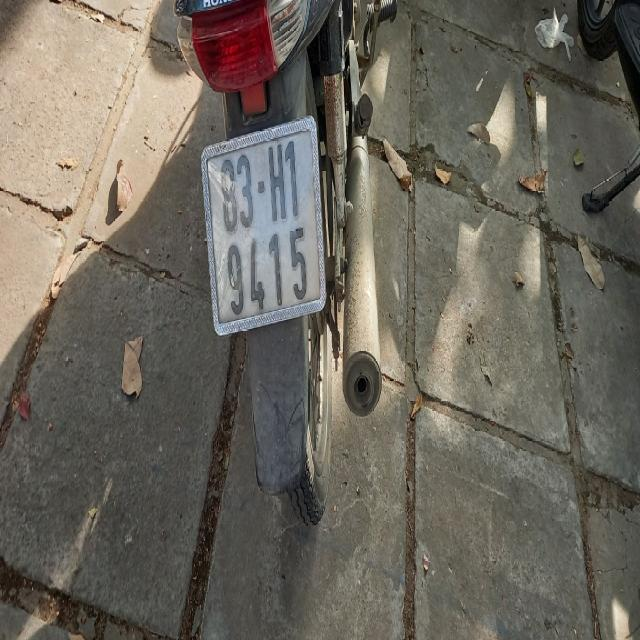1: (284, 140, 298, 215), (269, 234, 283, 306)
3: (237, 153, 254, 227)
4: (250, 239, 266, 311)
5: (290, 228, 308, 300)
8: (220, 161, 238, 232)
9: (227, 245, 244, 315)
H: (268, 143, 286, 223)
